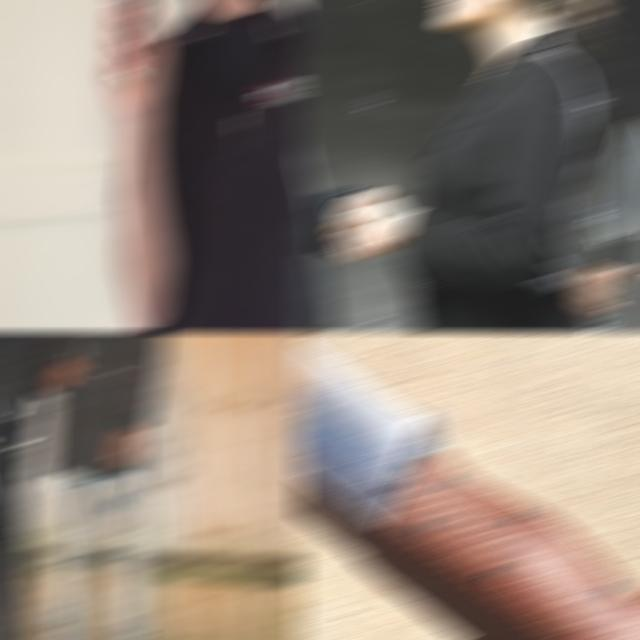Knife: (590, 118, 640, 268)
Knife_Handle: (102, 2, 178, 127), (46, 334, 122, 392)
